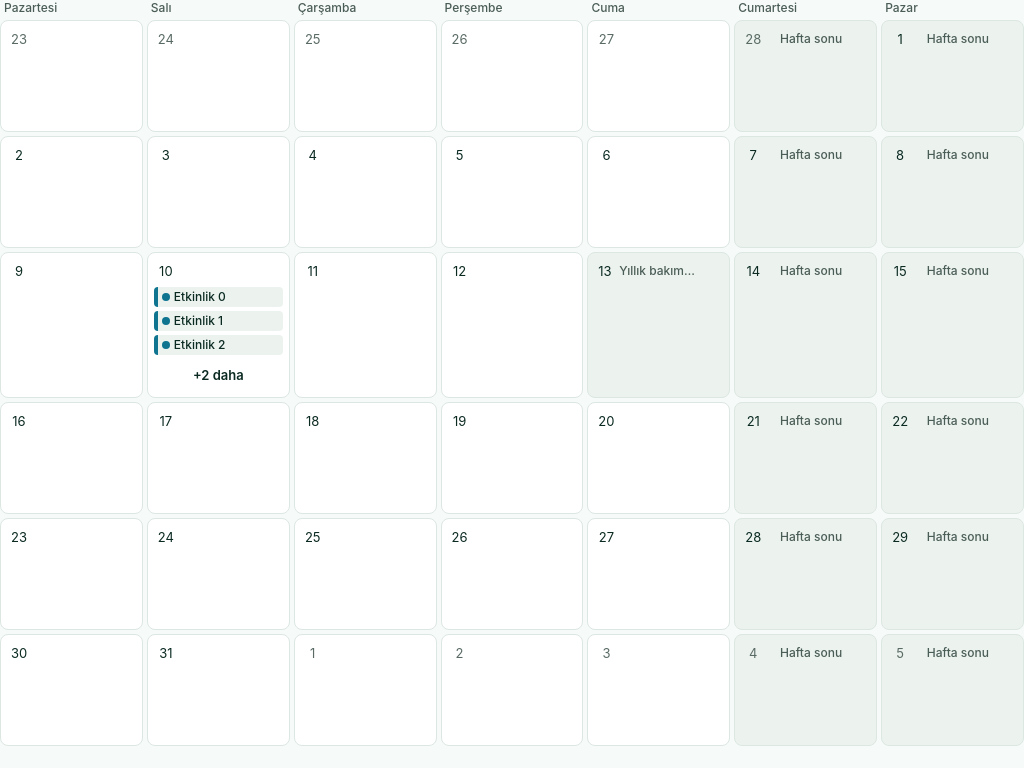
Test: MonthView › shows three chips and hides the rest behind a popover
What coordinates should you click on to do the following:
click the button "+2 daha"
I would click on:
 (218, 375)
Its box is [154, 359, 283, 391].
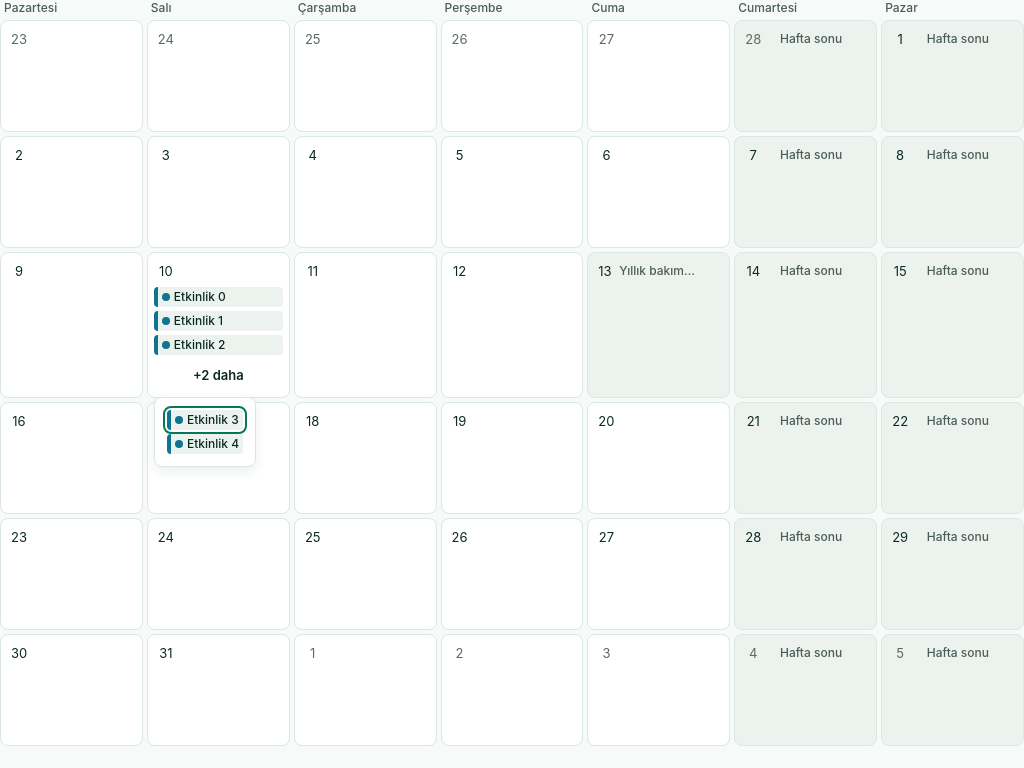
Result: the button "Etkinlik 4" is shown at [167, 434, 243, 454]
